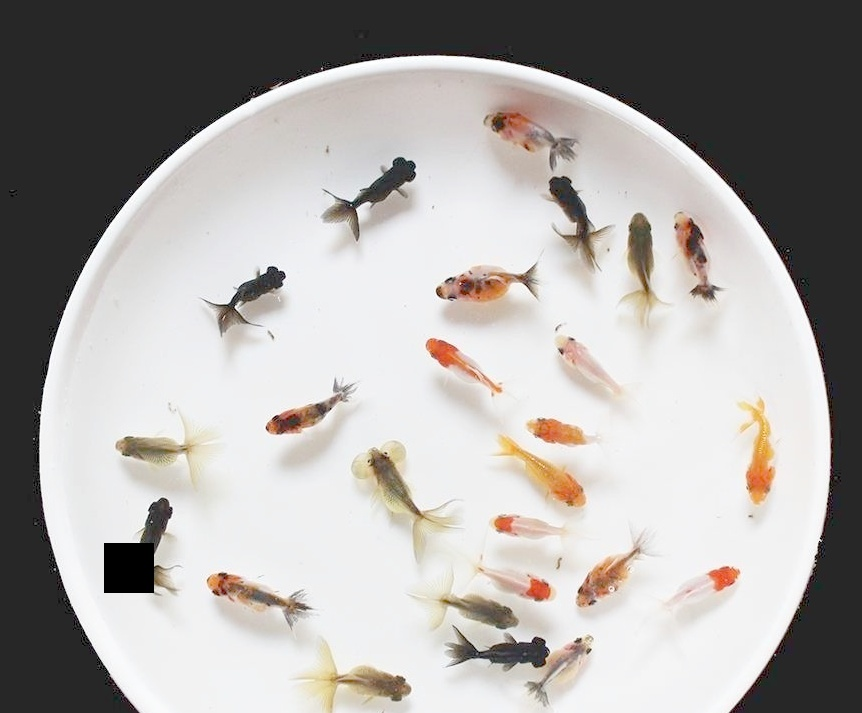fry: (285, 133, 430, 241), (339, 430, 453, 533), (116, 483, 202, 619), (725, 385, 799, 522), (196, 556, 333, 628), (460, 103, 597, 174), (663, 196, 744, 311), (558, 525, 660, 611), (408, 325, 516, 406), (207, 256, 308, 341), (535, 169, 622, 267), (247, 375, 361, 449), (89, 406, 213, 472), (285, 652, 416, 713), (422, 255, 552, 313), (621, 191, 671, 336), (493, 446, 603, 508), (546, 327, 635, 402), (661, 541, 749, 610), (463, 553, 568, 606), (541, 624, 607, 699), (443, 630, 555, 674), (522, 408, 618, 455), (427, 589, 519, 636), (485, 505, 566, 544)
